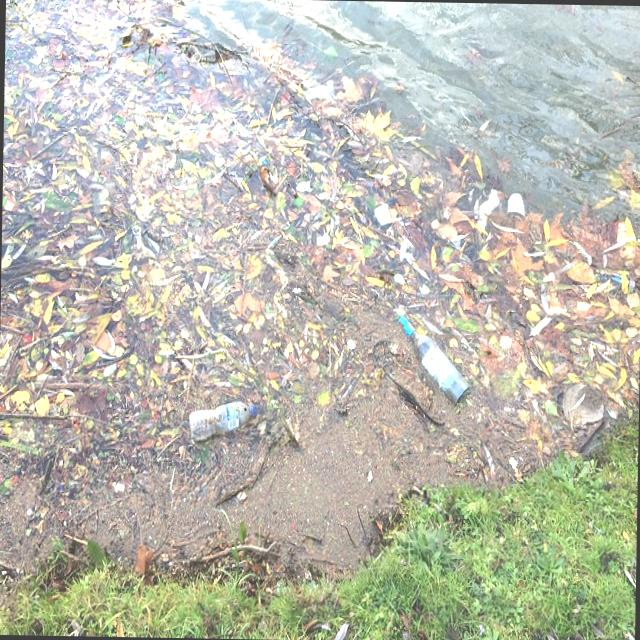Recycle: (392, 314, 471, 409), (186, 399, 258, 443)
